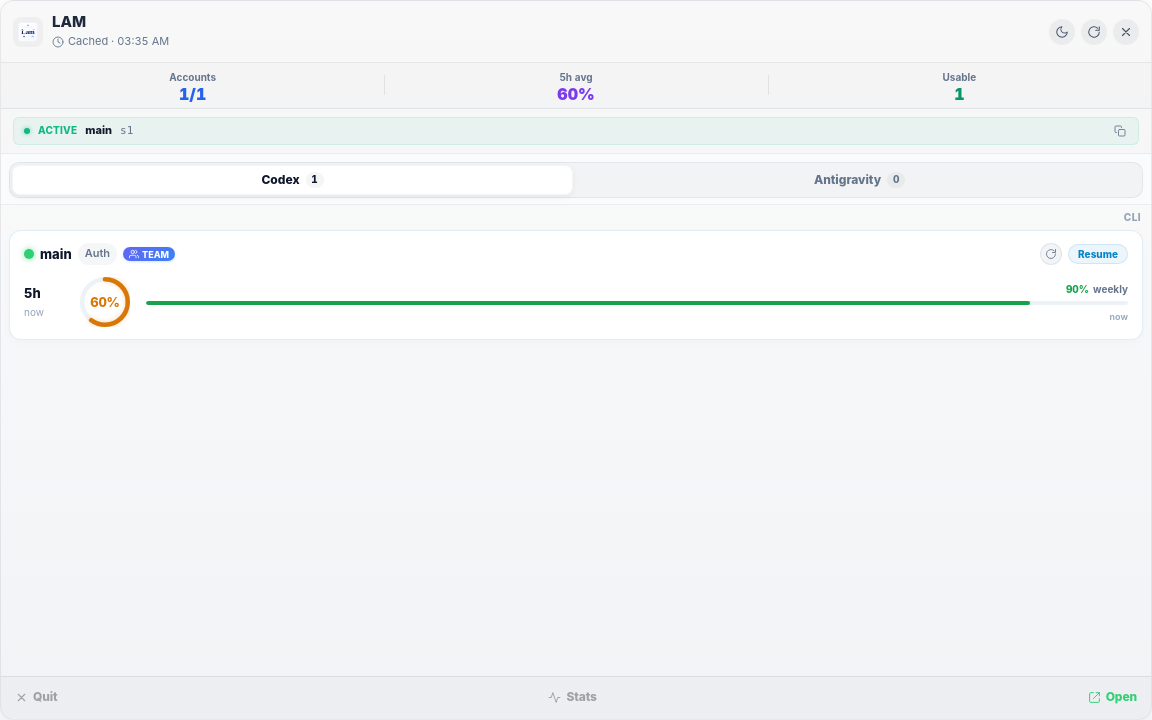
Test: TrayQuotaPanel › refreshes only the selected account from its row action
Check: the text "60%" below "5h avg" is shown, box [557,84,595,104]
Click the button named "Refresh main quota". click: (1051, 254)
box: [1040,243,1062,265]
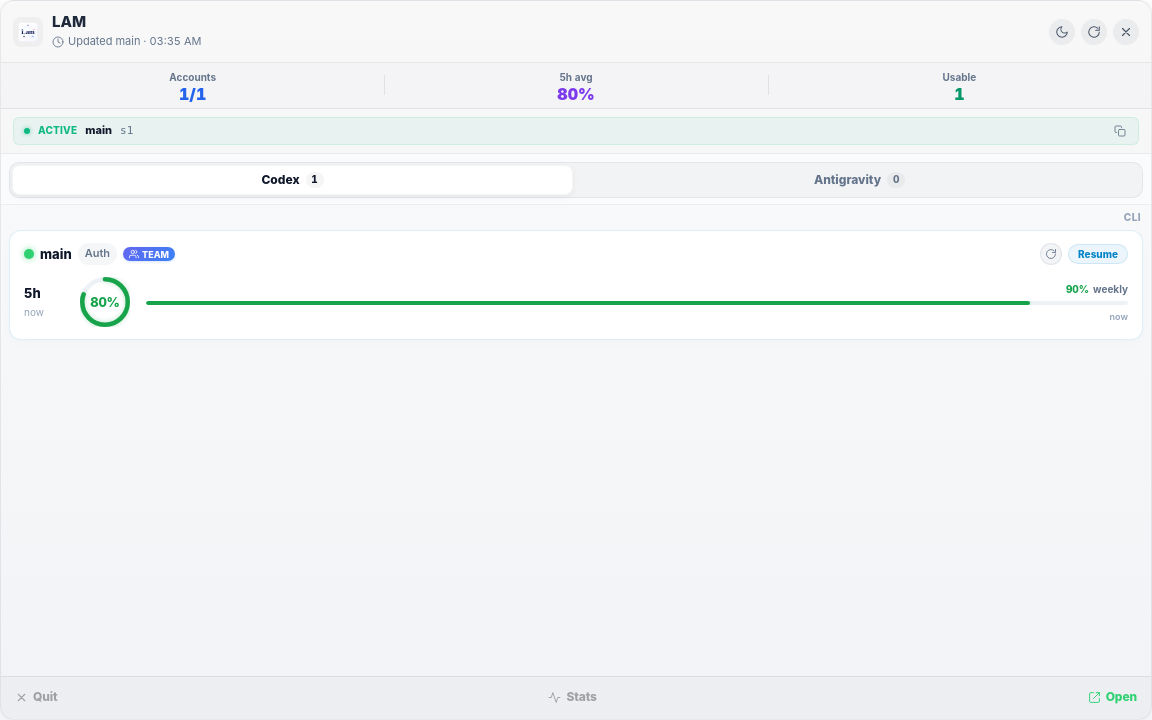
Check: the text "80%" below "5h avg" is shown, box [557,84,595,104]
